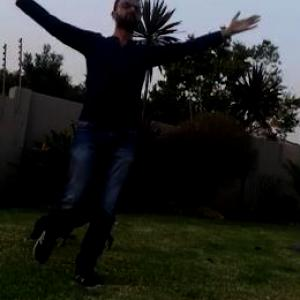takeoff: (0, 9, 207, 256)
